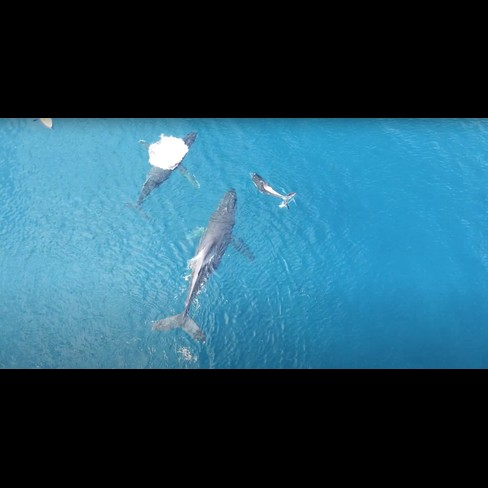hump: (149, 185, 259, 360), (119, 126, 205, 225), (247, 168, 300, 212)
